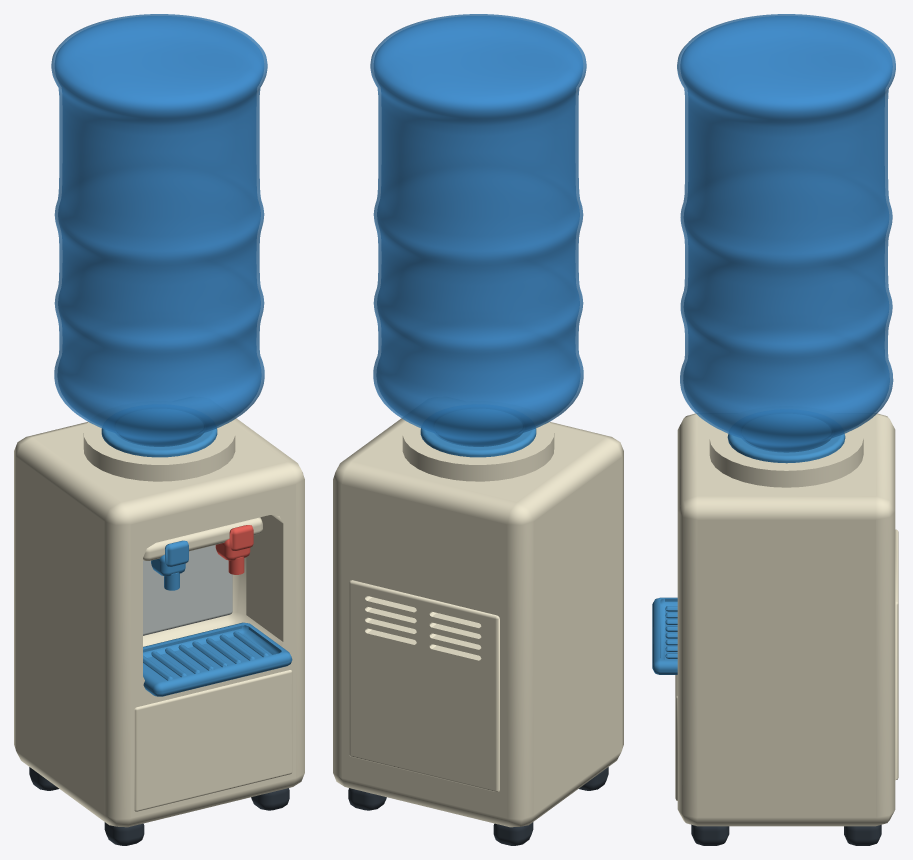
File: water_dispenser.glb
The picture shows the model from 3 angles, left to right: view 1: azimuth 30°, elevation 25°; view 2: azimuth 150°, elevation 25°; view 3: azimuth 270°, elevation 25°; orthographic projection.
Visible parts, largest first — view 1: Large inverted ribbed water bottle_export, Rounded cream enclosure_export, Lower front service panel_export, Cup bay back liner_export, Blue drip tray_export, Bottle socket_export, Blue socket gasket_export, Tap mounting ledge_export, Rounded rubber foot_export, Rounded rubber foot.002_export, Hot push paddle_export, Cold push paddle_export; view 2: Large inverted ribbed water bottle_export, Rounded cream enclosure_export, Rear service cover_export, Bottle socket_export, Blue socket gasket_export, Rounded rubber foot.001_export, Rounded rubber foot.003_export; view 3: Large inverted ribbed water bottle_export, Rounded cream enclosure_export, Bottle socket_export, Blue socket gasket_export, Blue drip tray_export, Rear service cover_export, Rounded rubber foot.002_export, Rounded rubber foot.003_export.
Part boxes in pixels (x1,y1,x2,y2): Large inverted ribbed water bottle_export: (51,14,267,446); Rounded cream enclosure_export: (14,417,304,827); Lower front service panel_export: (134,670,292,811); Cup bay back liner_export: (143,545,232,635); Blue drip tray_export: (143,622,292,696); Bottle socket_export: (83,421,235,481); Blue socket gasket_export: (101,409,217,457); Tap mounting ledge_export: (143,517,262,560); Rounded rubber foot_export: (104,822,144,845); Rounded rubber foot.002_export: (251,788,289,810); Hot push paddle_export: (229,525,253,550); Cold push paddle_export: (165,540,188,566); Large inverted ribbed water bottle_export: (370,14,586,446); Rounded cream enclosure_export: (333,417,623,827); Rear service cover_export: (349,580,499,791); Bottle socket_export: (402,421,554,481); Blue socket gasket_export: (420,409,536,457); Rounded rubber foot.001_export: (493,822,533,845); Rounded rubber foot.003_export: (348,788,386,810); Large inverted ribbed water bottle_export: (677,14,895,452); Rounded cream enclosure_export: (677,413,895,826); Bottle socket_export: (709,426,863,487); Blue socket gasket_export: (727,414,845,463); Blue drip tray_export: (652,597,677,674); Rear service cover_export: (895,529,898,780); Rounded rubber foot.002_export: (691,824,729,845); Rounded rubber foot.003_export: (844,825,881,845).
Bounding box in the file's own units: 0.32 × 1.15 × 0.3395.
